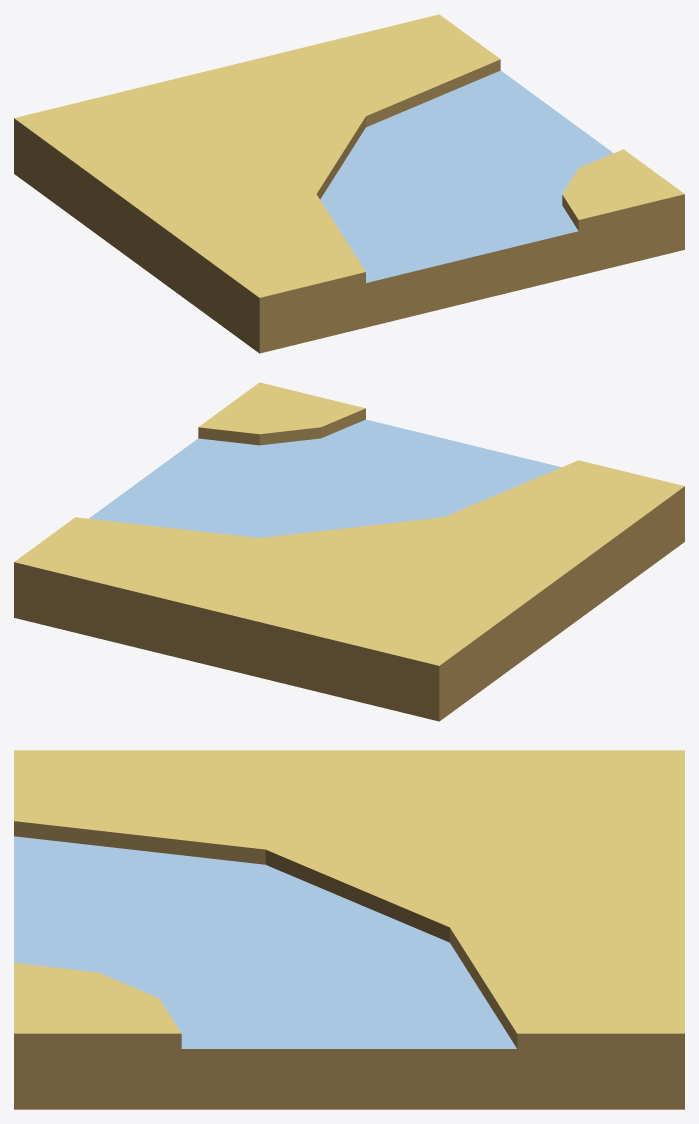
Rendered from Terrain_Tile_Sand_River_Bend_01.fbx.
3 renders of one model, top to bottom at view 1: azimuth 30°, elevation 25°; view 2: azimuth 150°, elevation 25°; view 3: azimuth 270°, elevation 25°, orthographic. The views are drawn at different scales.
Parts seen in each view (by area): view 1: Terrain_Tile_Sand_River_Bend_01; view 2: Terrain_Tile_Sand_River_Bend_01; view 3: Terrain_Tile_Sand_River_Bend_01.
Boxes of the visible parts, x1,y1,x2,y2 form: Terrain_Tile_Sand_River_Bend_01: (14, 14, 684, 353); Terrain_Tile_Sand_River_Bend_01: (14, 382, 684, 721); Terrain_Tile_Sand_River_Bend_01: (14, 750, 684, 1109).
Size of the model in its own units: 126 by 15.75 by 126.
